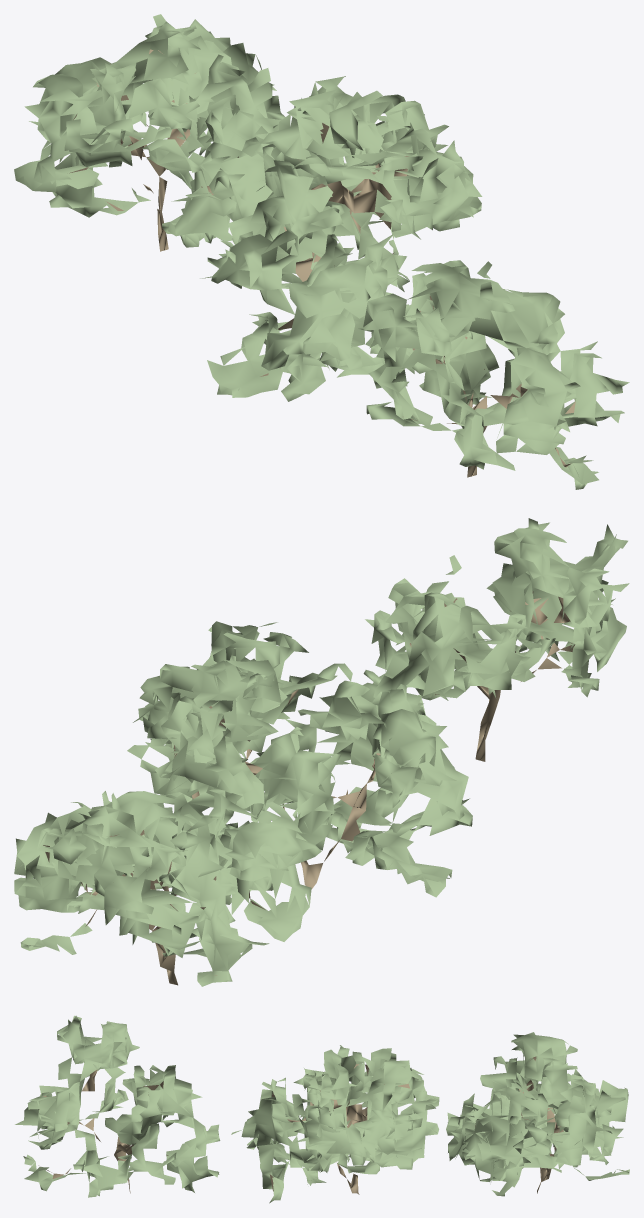
File: oak.glb
The picture shows the model from 3 angles, top to bottom: view 1: azimuth 30°, elevation 25°; view 2: azimuth 150°, elevation 25°; view 3: azimuth 270°, elevation 25°; orthographic projection. The views are drawn at different scales.
Size of the model in its own units: 129 by 101 by 353.
